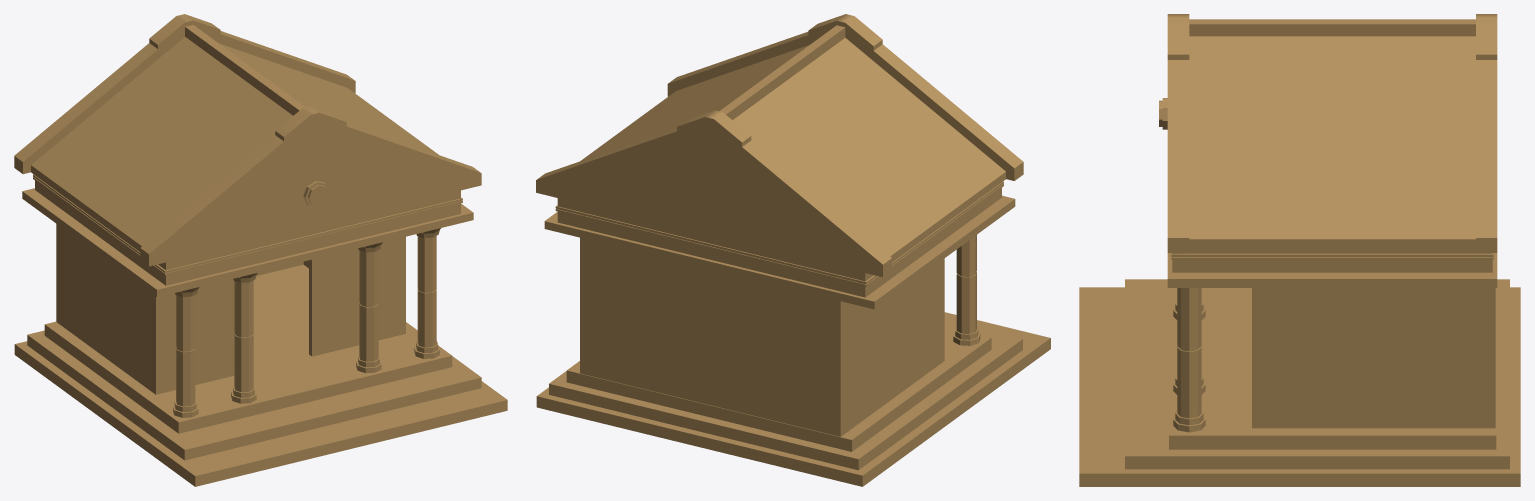
Rendered from Greek_Temple_Low_Colored.fbx.
3 views of the same model, side by side, from view 1: azimuth 30°, elevation 25°; view 2: azimuth 150°, elevation 25°; view 3: azimuth 270°, elevation 25° (orthographic). The views are drawn at different scales.
Parts seen in each view (by area): view 1: Triangle_Roof4, Temple_Room2, Temple_Floor_Base2, Temple_Floor_Base, Temple_Floor_Base1, Pillar_Low_Poly2, Pillar_Low_Poly3, Pillar_Low_Poly, Pillar_Low_Poly1, Roof_Cover, Roof_Cover1; view 2: Triangle_Roof4, Temple_Room2, Temple_Floor_Base, Temple_Floor_Base1, Temple_Floor_Base2, Pillar_Low_Poly3, Roof_Cover, Roof_Cover1; view 3: Triangle_Roof4, Temple_Room2, Temple_Floor_Base, Temple_Floor_Base1, Temple_Floor_Base2, Pillar_Low_Poly, Roof_Cover, Roof_Cover1.
Boxes of the visible parts, x1,y1,x2,y2 form: Triangle_Roof4: (14,25,481,297); Temple_Room2: (56,224,405,394); Temple_Floor_Base2: (44,264,452,433); Temple_Floor_Base: (14,341,507,486); Temple_Floor_Base1: (27,330,481,460); Pillar_Low_Poly2: (231,273,257,403); Pillar_Low_Poly3: (173,287,199,417); Pillar_Low_Poly: (414,228,440,358); Pillar_Low_Poly1: (356,242,382,373); Roof_Cover: (275,106,346,141); Roof_Cover1: (149,14,220,48); Triangle_Roof4: (536,25,1023,309); Temple_Room2: (580,237,944,436); Temple_Floor_Base: (536,312,1050,486); Temple_Floor_Base1: (549,320,1022,470); Temple_Floor_Base2: (566,326,991,451); Pillar_Low_Poly3: (953,235,980,345); Roof_Cover: (808,14,882,50); Roof_Cover1: (677,110,751,146); Triangle_Roof4: (1167,19,1497,287); Temple_Room2: (1252,288,1495,428); Temple_Floor_Base: (1079,287,1520,486); Temple_Floor_Base1: (1125,279,1509,469); Temple_Floor_Base2: (1169,288,1496,449); Pillar_Low_Poly: (1173,288,1205,432); Roof_Cover: (1167,14,1189,59); Roof_Cover1: (1476,14,1497,59).
Bounding box in the file's own units: 1064 × 944 × 1000.
